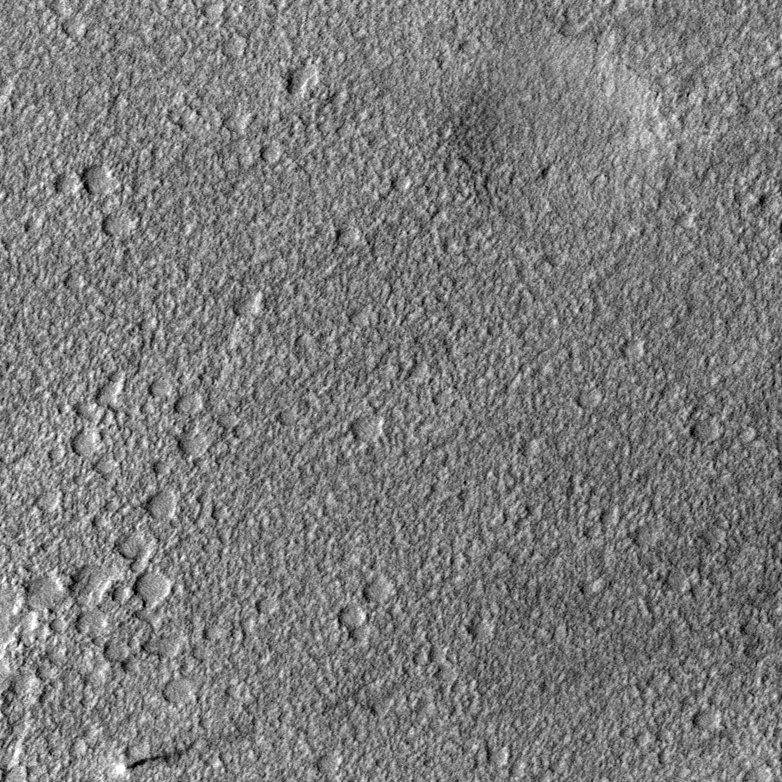dust_devil: (111, 737, 201, 777)
